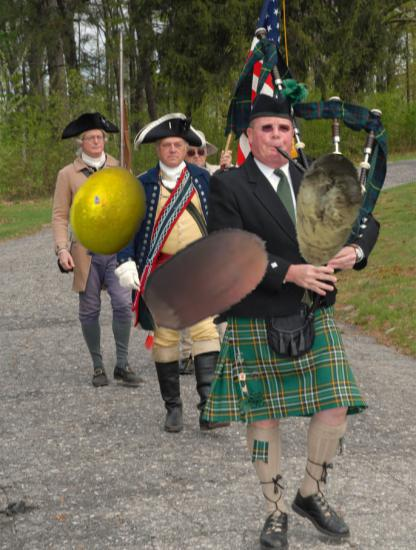Ginger: (271, 153, 387, 269)
Hazelnut: (140, 208, 276, 344)
Maracuja: (61, 165, 155, 259)
